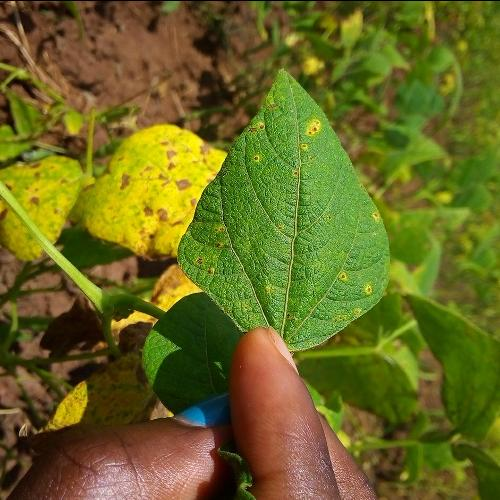hawar: (236, 104, 339, 191), (325, 259, 382, 298)
